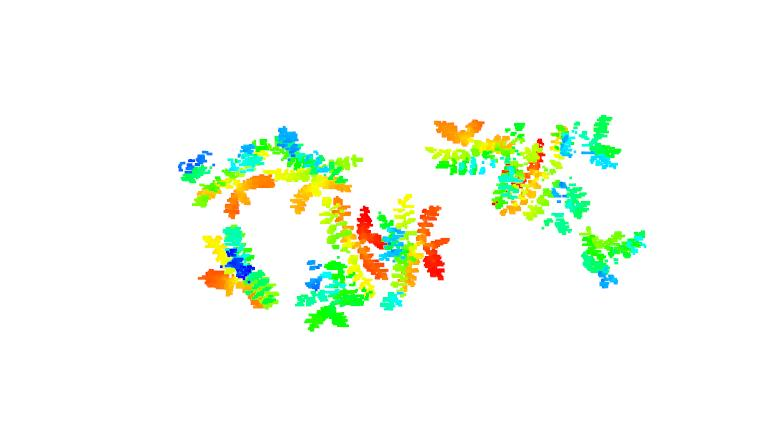chickpea: (509, 109, 621, 247), (297, 196, 382, 331), (426, 107, 528, 216), (164, 133, 278, 221), (264, 123, 363, 213), (192, 221, 287, 314), (374, 195, 451, 305), (576, 227, 649, 293)
